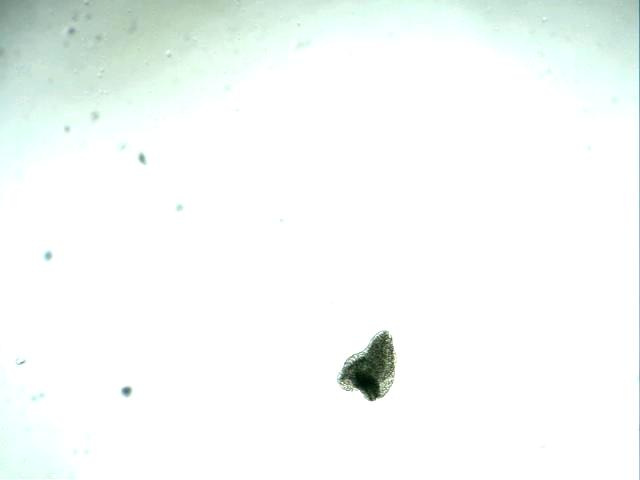Placozoan: (337, 330, 397, 402)
